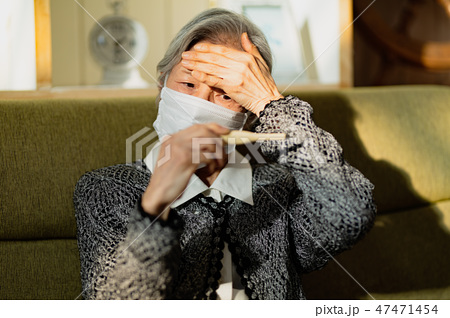mask: (157, 99, 252, 174)
